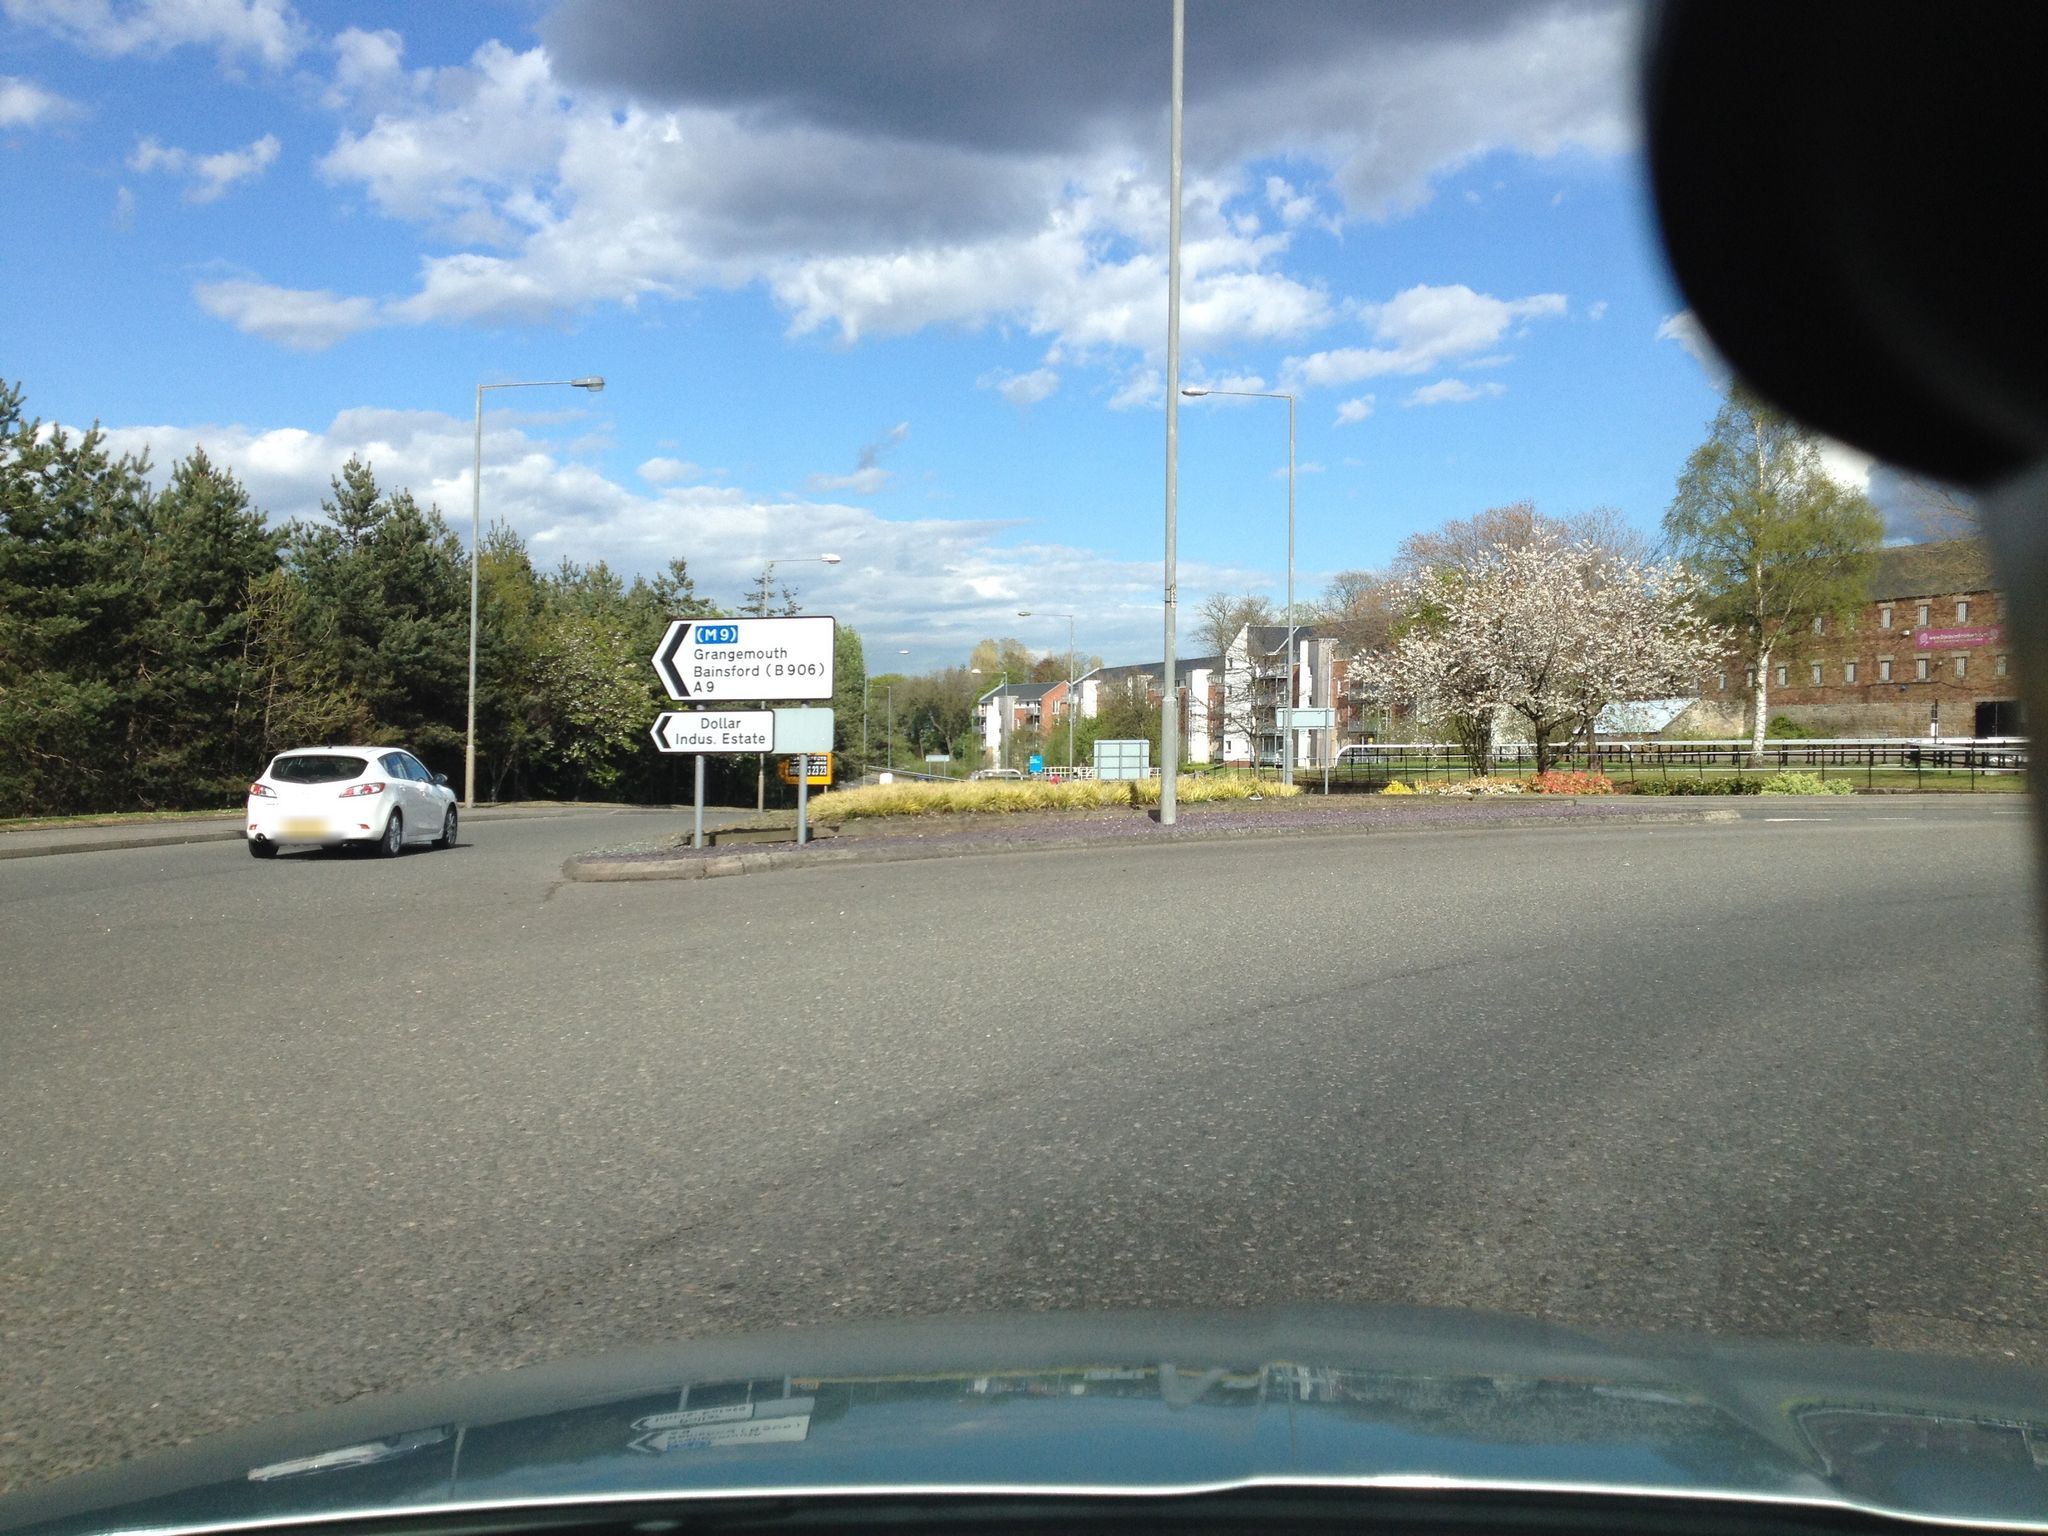car: (245, 745, 461, 857)
